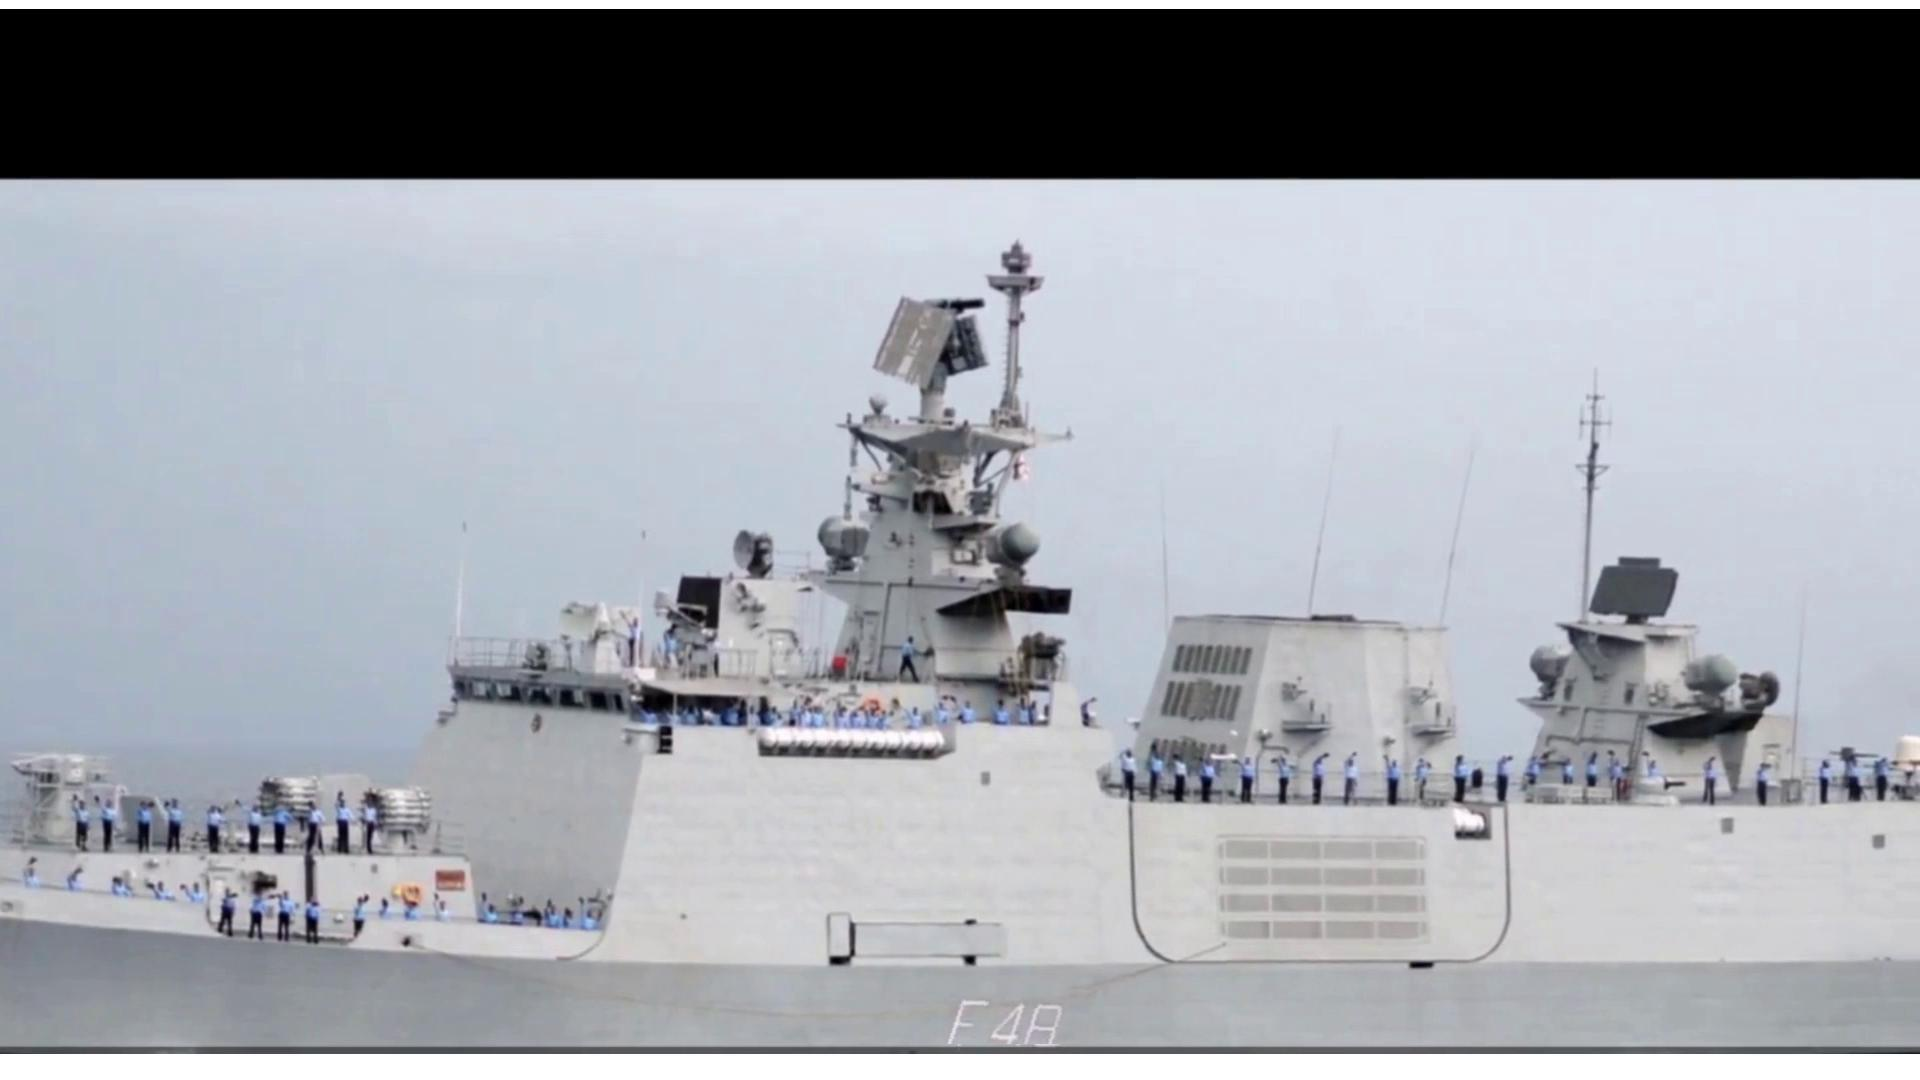OCR: (939, 982, 1097, 1044)
